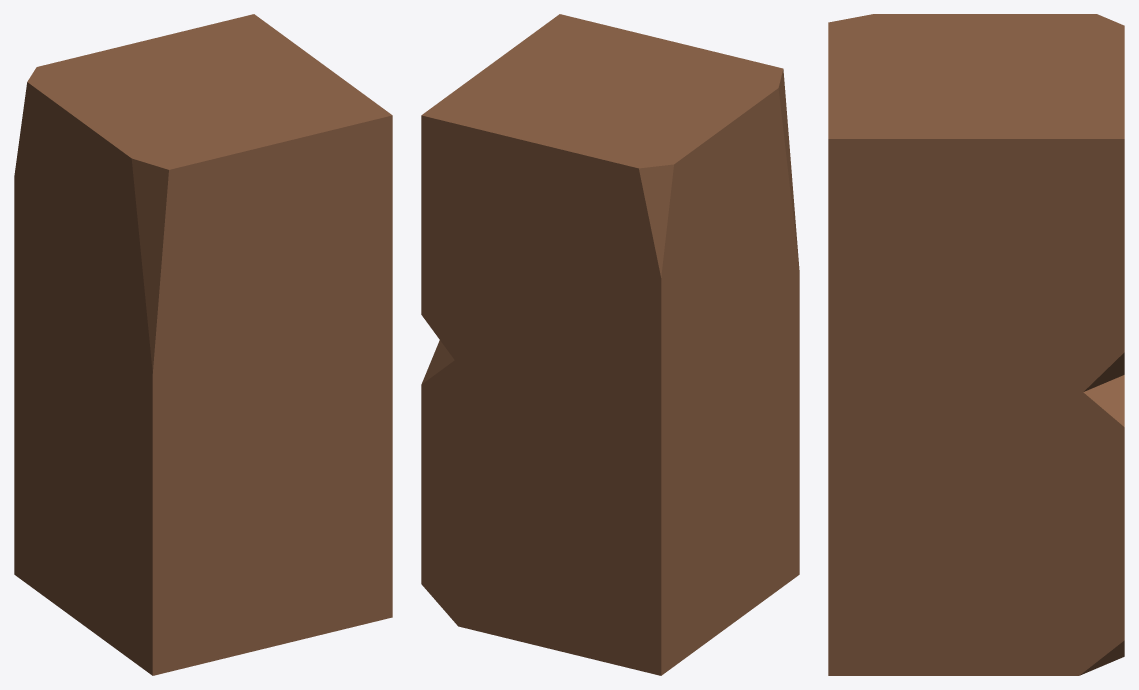
File: Monument_002.FBX
The picture shows the model from 3 angles, left to right: view 1: azimuth 30°, elevation 25°; view 2: azimuth 150°, elevation 25°; view 3: azimuth 270°, elevation 25°; orthographic projection. The views are drawn at different scales.
Parts seen in each view (by area): view 1: Monument_002; view 2: Monument_002; view 3: Monument_002.
Boxes of the visible parts, x1=… form: Monument_002: x1=14, y1=14, x2=392, y2=675; Monument_002: x1=421, y1=14, x2=799, y2=675; Monument_002: x1=828, y1=14, x2=1124, y2=675.
Bounding box in the file's own units: 19.69 × 39.37 × 19.69.
